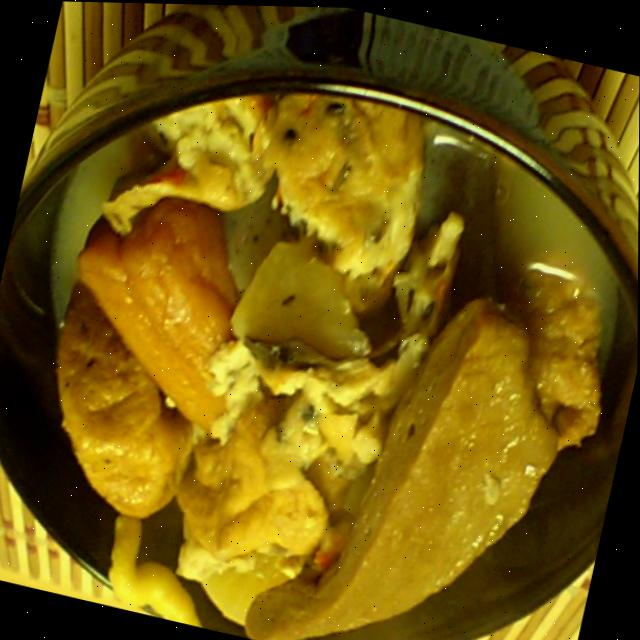汤锅炖物: (1, 33, 640, 640)
